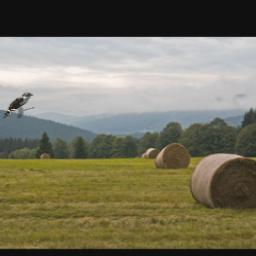Cuckoo: (2, 94, 34, 119)
